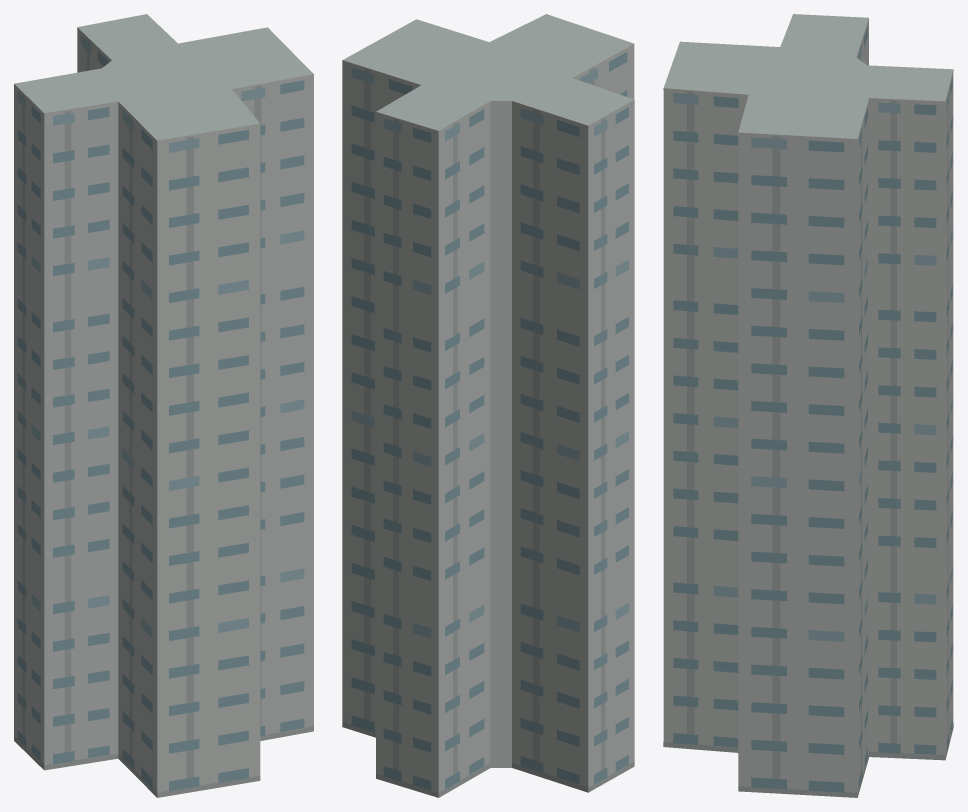
Rendered from residential-5c37d3b0-d154-4e43-a21b-0aa92c5f25b6.glb.
3 views of the same model, side by side, from view 1: azimuth 30°, elevation 25°; view 2: azimuth 150°, elevation 25°; view 3: azimuth 270°, elevation 25° (orthographic).
Parts seen in each view (by area): view 1: residential-5c37d3b0-d154-4e43-a21b-0aa92c5f25b6.tmp; view 2: residential-5c37d3b0-d154-4e43-a21b-0aa92c5f25b6.tmp; view 3: residential-5c37d3b0-d154-4e43-a21b-0aa92c5f25b6.tmp.
Boxes of the visible parts, x1,y1,x2,y2 form: residential-5c37d3b0-d154-4e43-a21b-0aa92c5f25b6.tmp: [14, 14, 313, 797]; residential-5c37d3b0-d154-4e43-a21b-0aa92c5f25b6.tmp: [342, 14, 634, 797]; residential-5c37d3b0-d154-4e43-a21b-0aa92c5f25b6.tmp: [663, 14, 953, 797].
Size of the model in its own units: 43.46 by 107 by 42.59.
